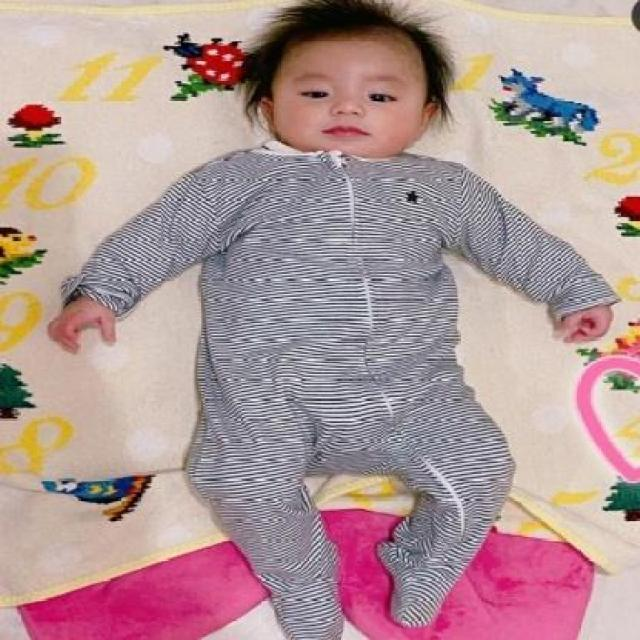baby: (44, 9, 614, 638)
